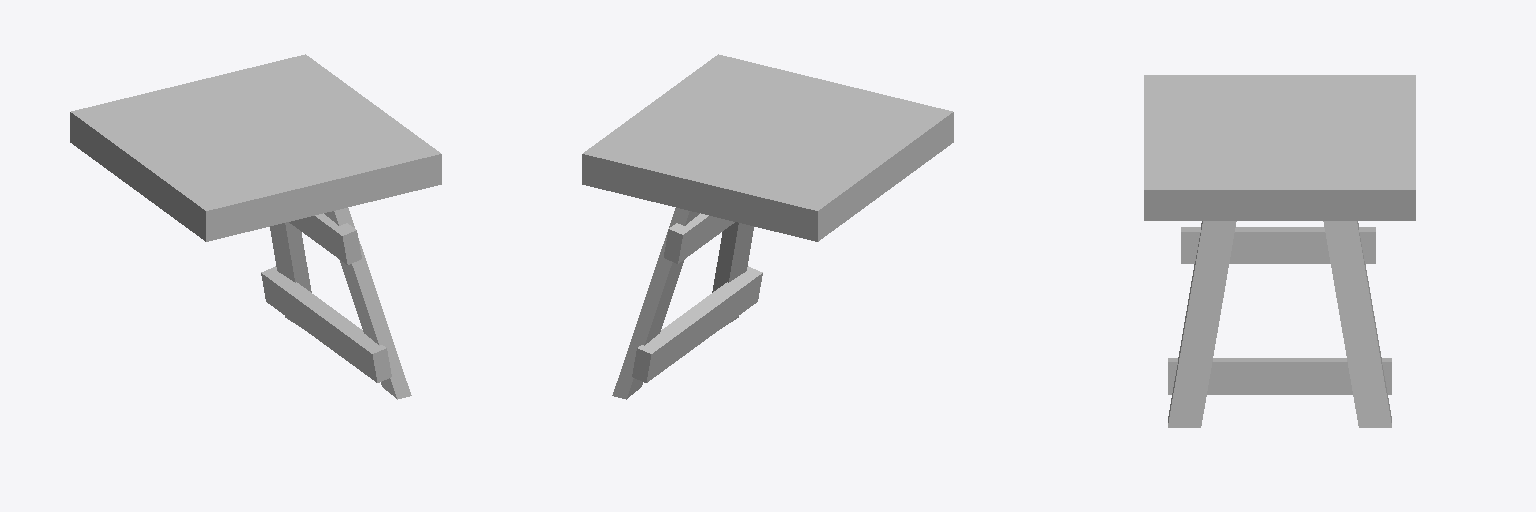
File: market_table_end.obj
3 renders of one model, left to right at view 1: azimuth 30°, elevation 25°; view 2: azimuth 150°, elevation 25°; view 3: azimuth 270°, elevation 25°, orthographic.
Visible parts, largest first — view 1: Market_Table_End_Cube.014; view 2: Market_Table_End_Cube.014; view 3: Market_Table_End_Cube.014.
Boxes of the visible parts, <box> form: Market_Table_End_Cube.014: <box>70,54,441,399</box>; Market_Table_End_Cube.014: <box>582,54,953,399</box>; Market_Table_End_Cube.014: <box>1144,75,1415,427</box>.
Size of the model in its own units: 1 by 1 by 1.